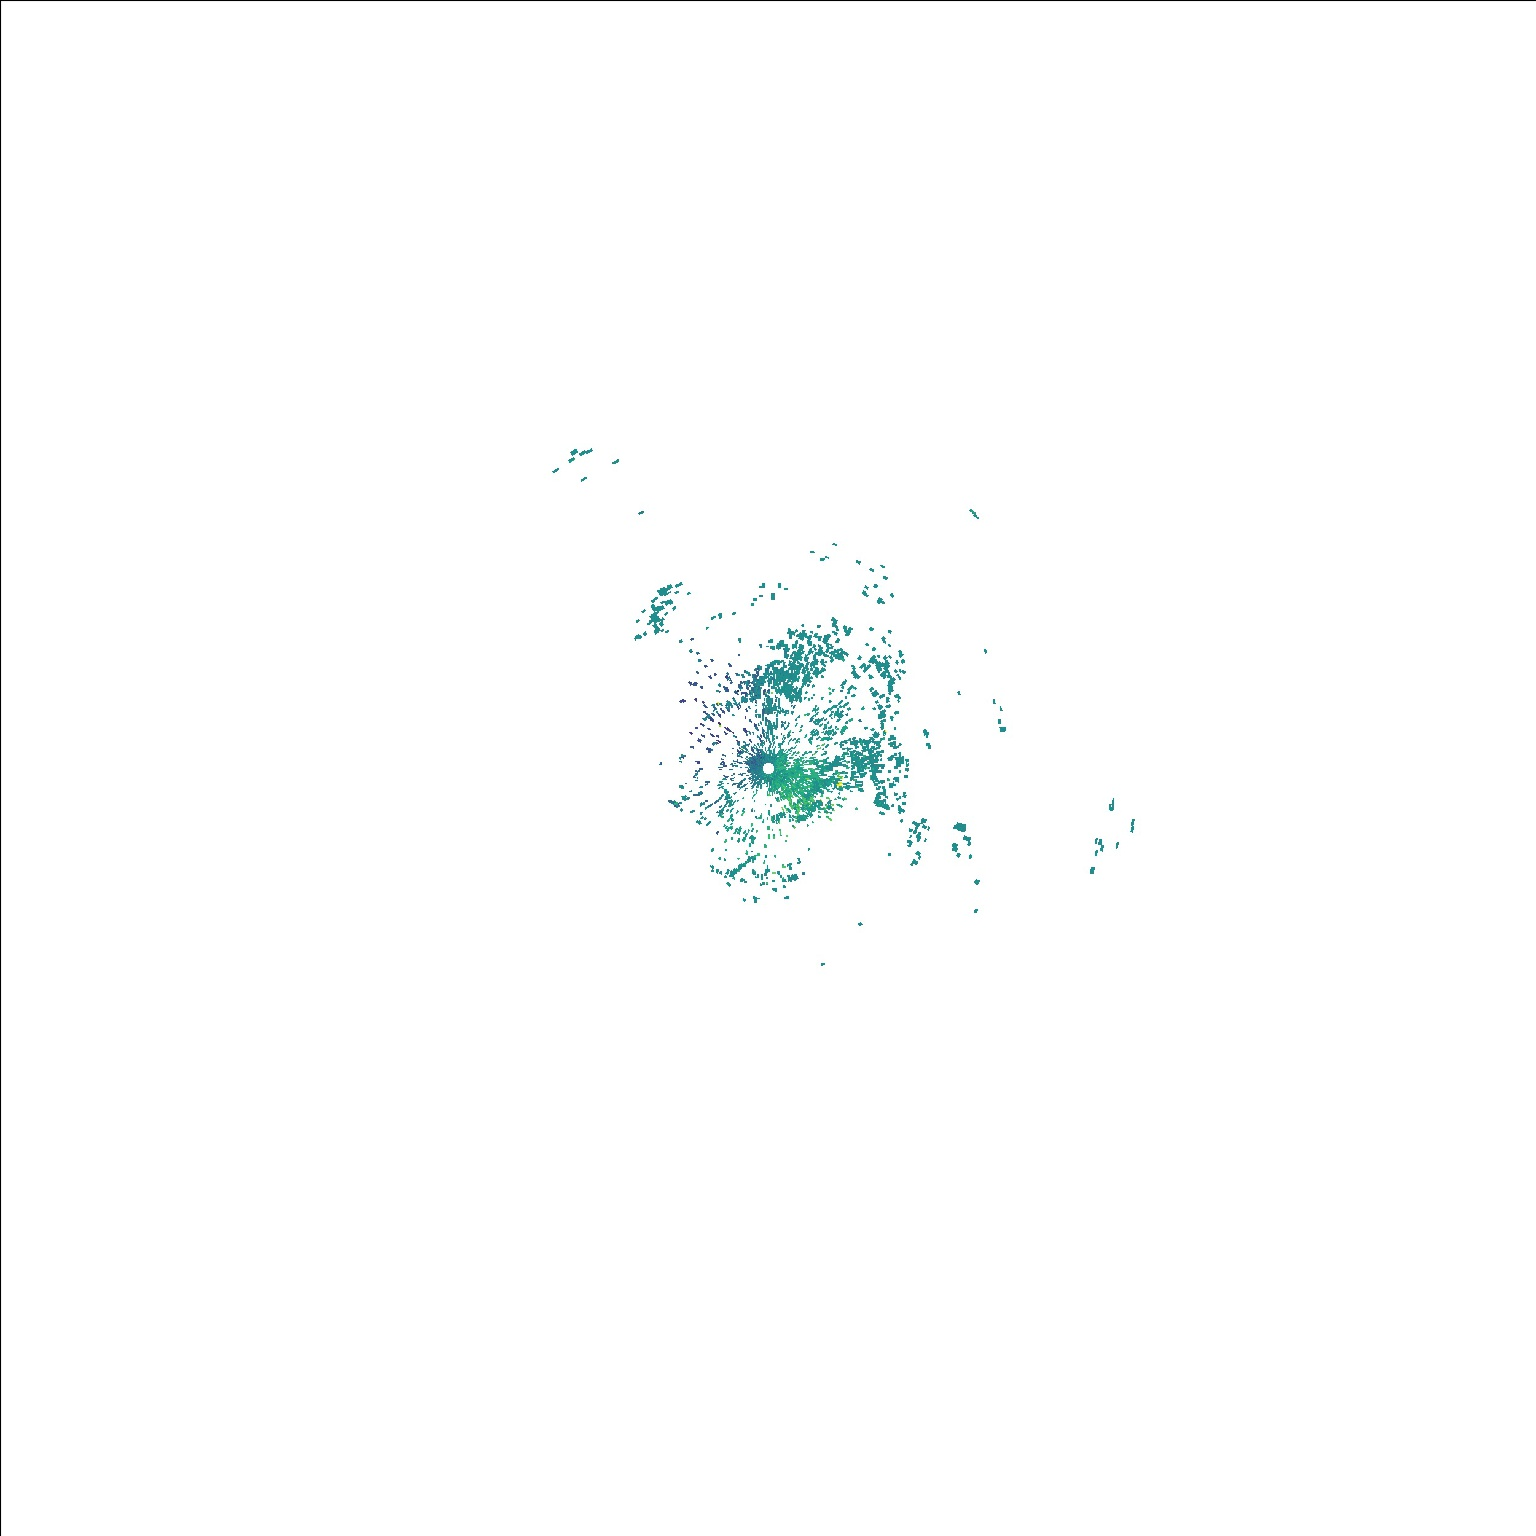fall: (665, 796, 684, 814)
